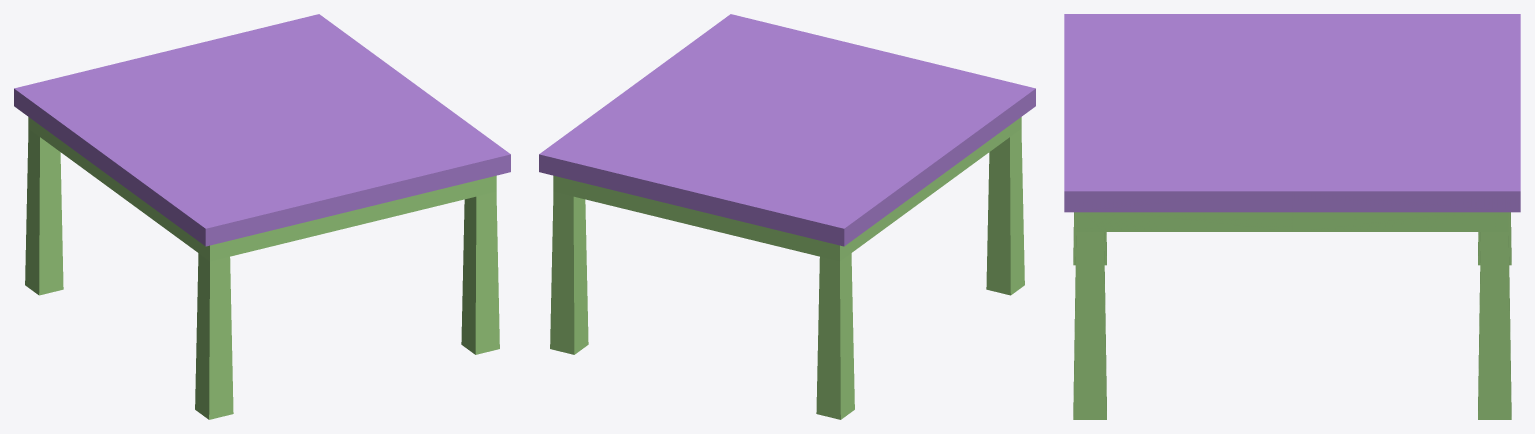
File: Table.glb
3 views of the same model, side by side, from view 1: azimuth 30°, elevation 25°; view 2: azimuth 150°, elevation 25°; view 3: azimuth 270°, elevation 25° (orthographic). The views are drawn at different scales.
Visible parts, largest first — view 1: Table_1, Table_0; view 2: Table_1, Table_0; view 3: Table_1, Table_0.
Part boxes in pixels (<box>): Table_1: <box>14,14,510,246</box>; Table_0: <box>25,117,499,419</box>; Table_1: <box>539,14,1035,246</box>; Table_0: <box>550,117,1024,419</box>; Table_1: <box>1064,14,1520,212</box>; Table_0: <box>1073,212,1511,419</box>.
Bounding box in the file's own units: 1.02 × 0.6229 × 1.11.
